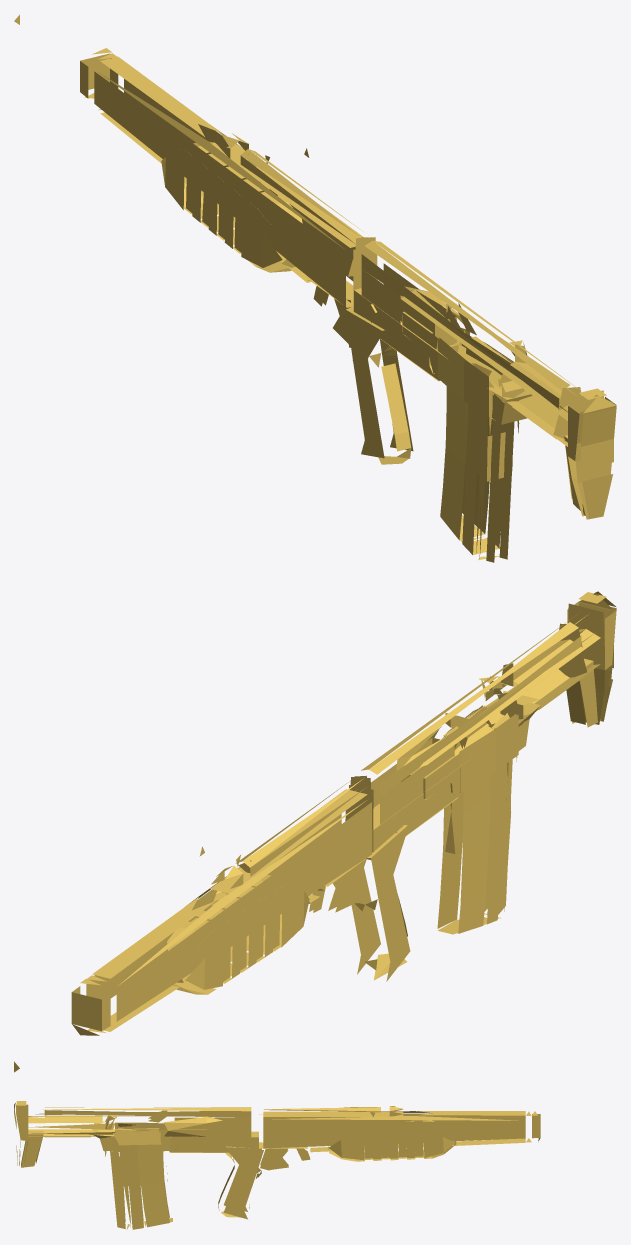
Rendered from charm_mst_fusil_14.glb.
3 renders of one model, top to bottom at view 1: azimuth 30°, elevation 25°; view 2: azimuth 150°, elevation 25°; view 3: azimuth 270°, elevation 25°, orthographic. The views are drawn at different scales.
Visible parts, largest first — view 1: p0_paint; view 2: p0_paint; view 3: p0_paint.
Part boxes in pixels (bbox=[...]): p0_paint: bbox=[14, 14, 616, 562]; p0_paint: bbox=[14, 591, 616, 1072]; p0_paint: bbox=[14, 1101, 540, 1229].
Bounding box in the file's own units: 0.0636 × 0.204 × 0.889.
